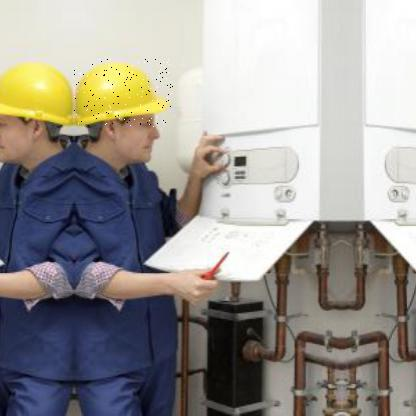safetyhelmet: (74, 59, 174, 128)
